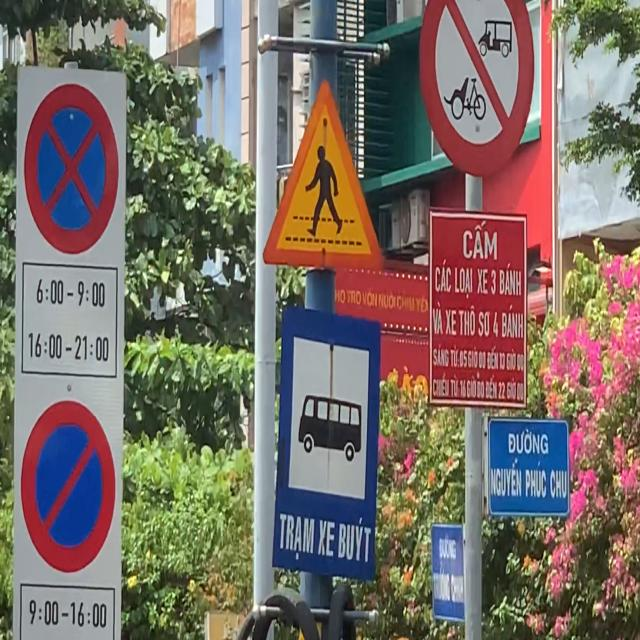Ben xe buyt: (271, 297, 384, 584)
Cam con lai: (418, 0, 534, 181)
Cam do: (21, 399, 116, 574)
Cam dung va do: (24, 83, 120, 255)
Nguoi di bo cat ngang: (261, 78, 386, 272)
